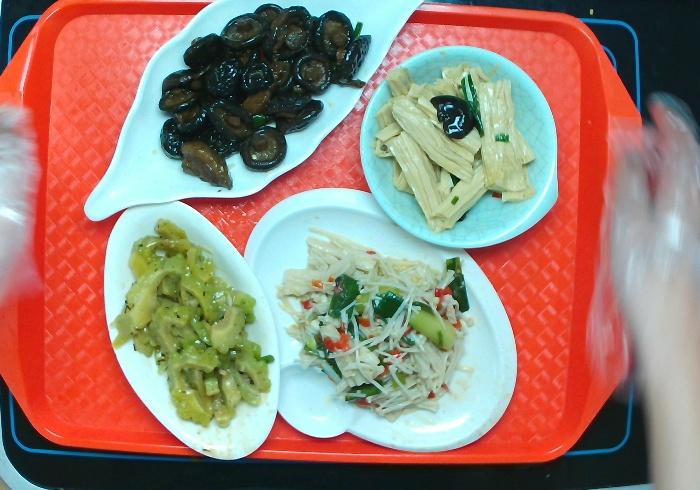RJxy-Bai_Se_Tuo_Yuan: (102, 199, 282, 460)
RJxy-Shu_Ye_Pan: (82, 1, 426, 223)
RJxy-Xiao_Jiao_Yuan_Wan: (358, 44, 561, 250)
RJxy-Zhan_Liao_Pan: (242, 185, 519, 454)
